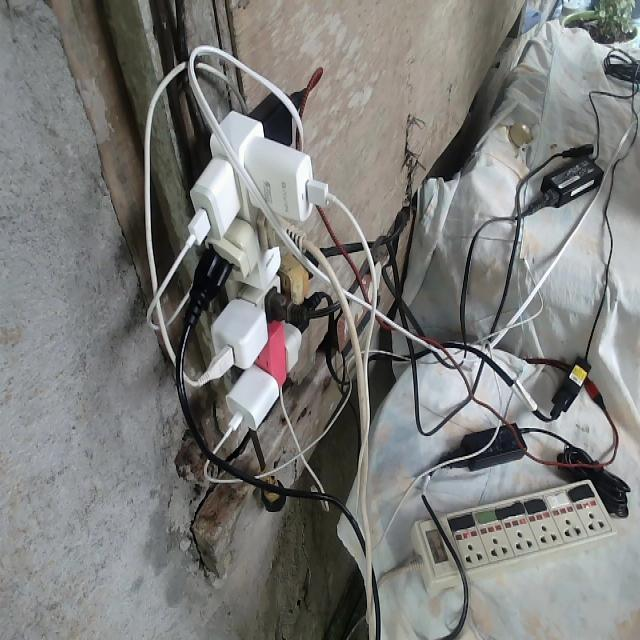-: (178, 108, 328, 428)
